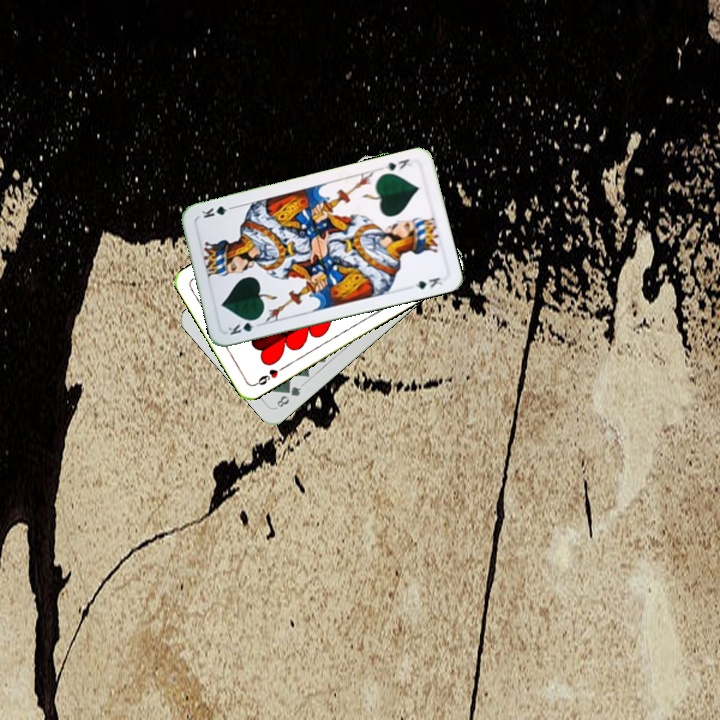G8: (272, 382, 304, 411)
GK: (224, 314, 262, 338), (381, 155, 416, 175)
H9: (251, 362, 287, 388)
